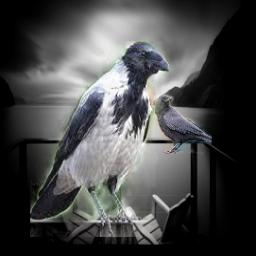Crow: (29, 42, 168, 238), (155, 95, 212, 154)
